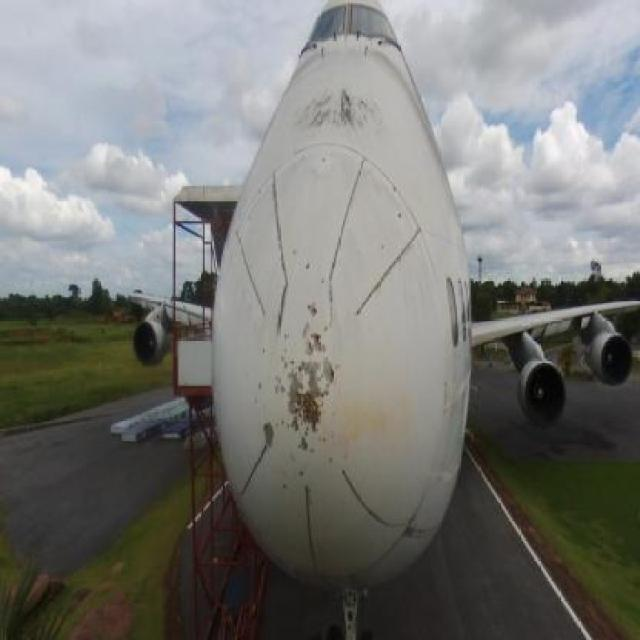Rust: (291, 91, 386, 152), (337, 393, 418, 453), (286, 377, 326, 440)
Scartch: (280, 338, 338, 462), (252, 408, 283, 459), (398, 515, 422, 548)
